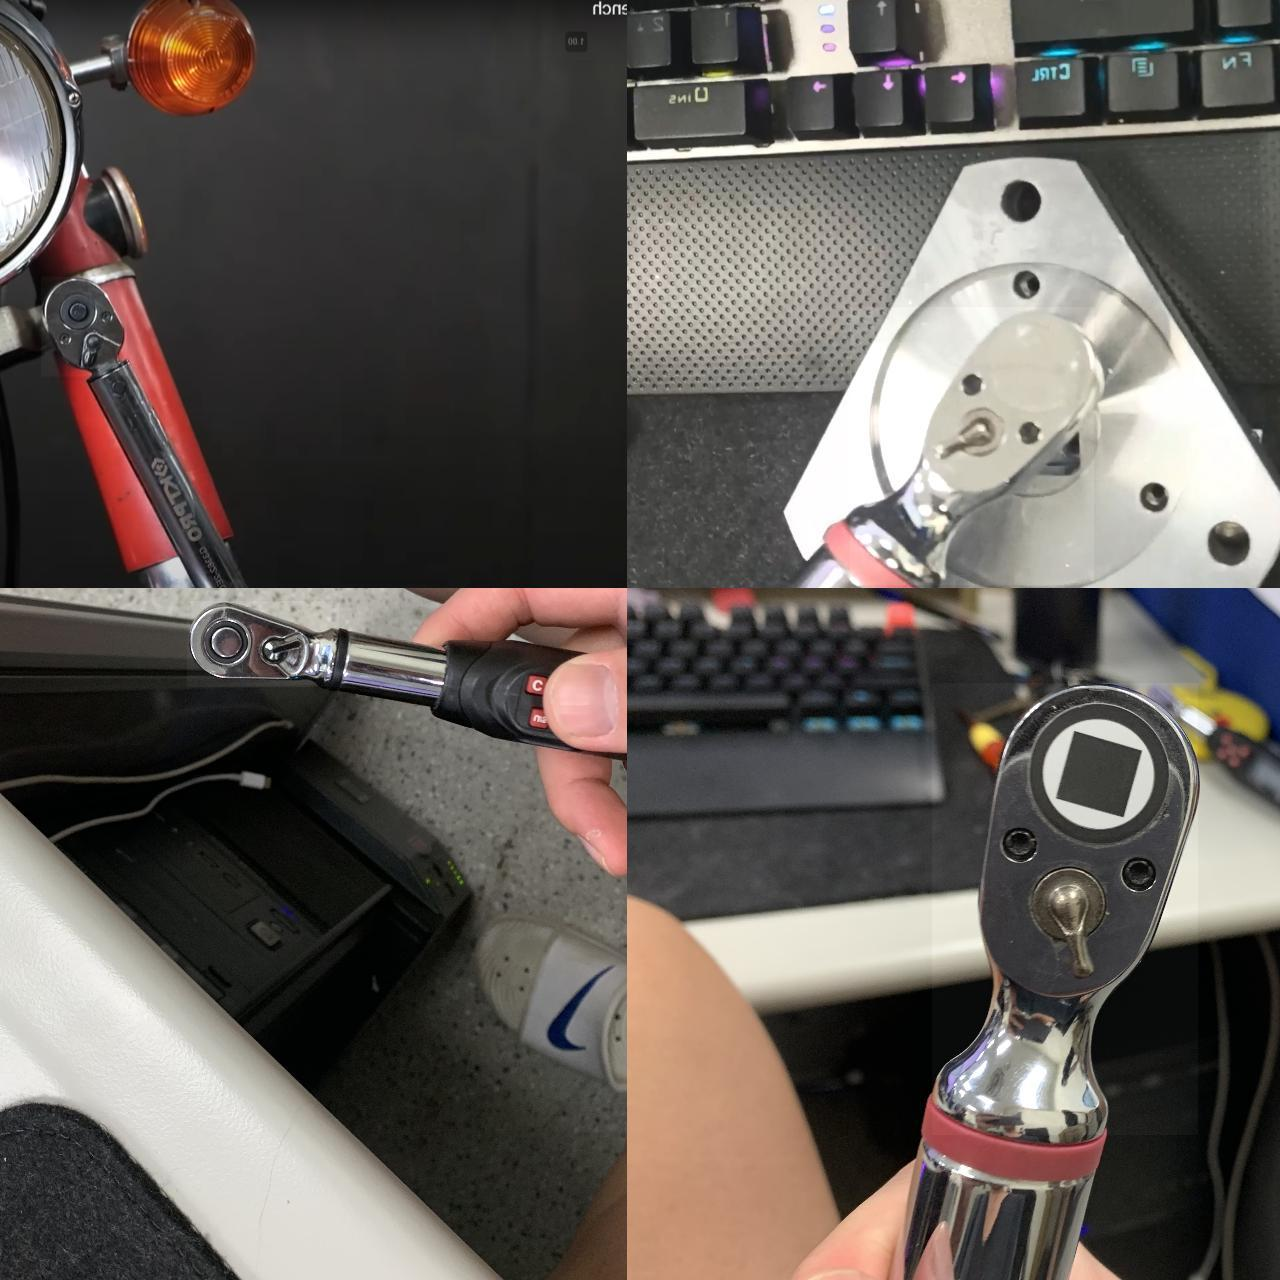Tool: (931, 682, 1197, 1134), (849, 306, 1093, 584), (186, 600, 338, 686), (40, 276, 126, 376)
hole: (1196, 497, 1262, 566), (995, 169, 1052, 226), (1134, 465, 1181, 515), (1010, 258, 1049, 301)
